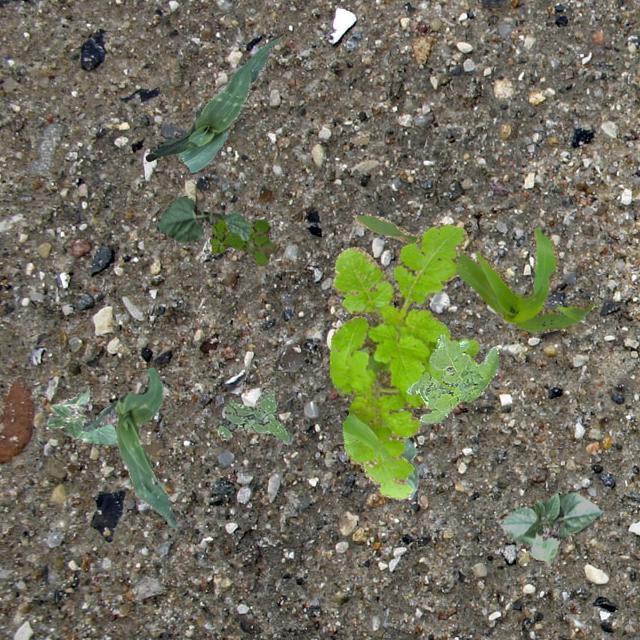crop: (353, 214, 592, 332), (145, 36, 279, 172), (82, 367, 178, 528), (500, 490, 602, 560), (154, 194, 250, 250), (46, 388, 116, 443), (396, 406, 418, 502)
weed: (328, 222, 478, 498), (406, 334, 498, 422), (218, 384, 292, 444), (210, 218, 276, 264)
